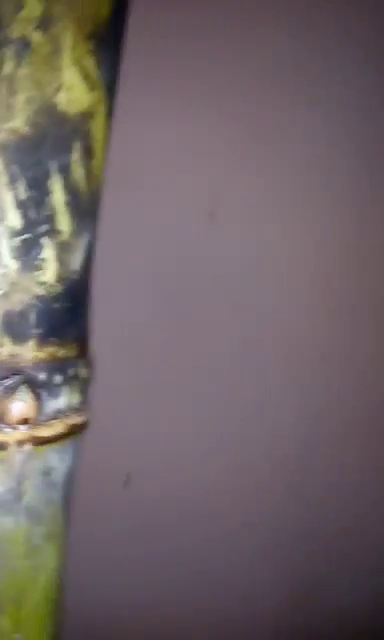cane eye: (1, 377, 40, 428)
